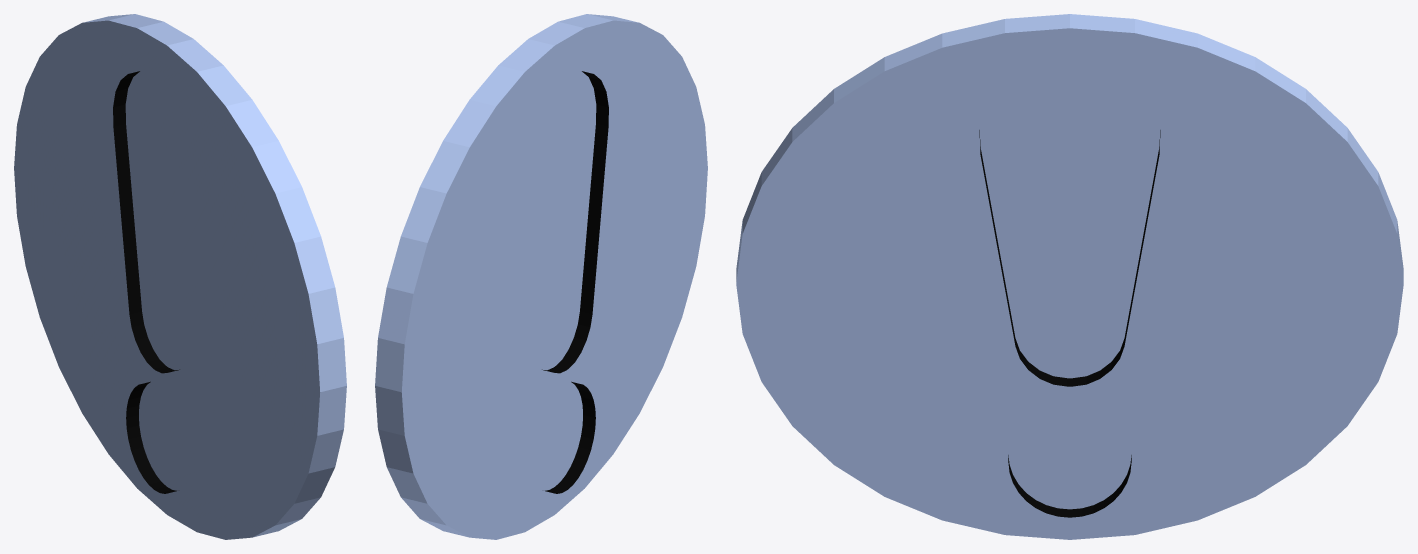
File: Reportar.glb
The picture shows the model from 3 angles, left to right: view 1: azimuth 30°, elevation 25°; view 2: azimuth 150°, elevation 25°; view 3: azimuth 270°, elevation 25°; orthographic projection. The views are drawn at different scales.
Visible parts, largest first — view 1: Circle, Cube, Circle.001; view 2: Circle, Cube, Circle.001; view 3: Circle, Cube, Circle.001.
Boxes of the visible parts, x1,y1,x2,y2 form: Circle: (14, 14, 346, 539); Cube: (113, 71, 179, 373); Circle.001: (126, 381, 176, 493); Circle: (375, 14, 707, 539); Cube: (542, 71, 608, 373); Circle.001: (545, 381, 595, 493); Circle: (736, 14, 1403, 539); Cube: (979, 130, 1160, 386); Circle.001: (1008, 455, 1131, 517).
Bounding box in the file's own units: 0.3769 × 3.06 × 3.61.
